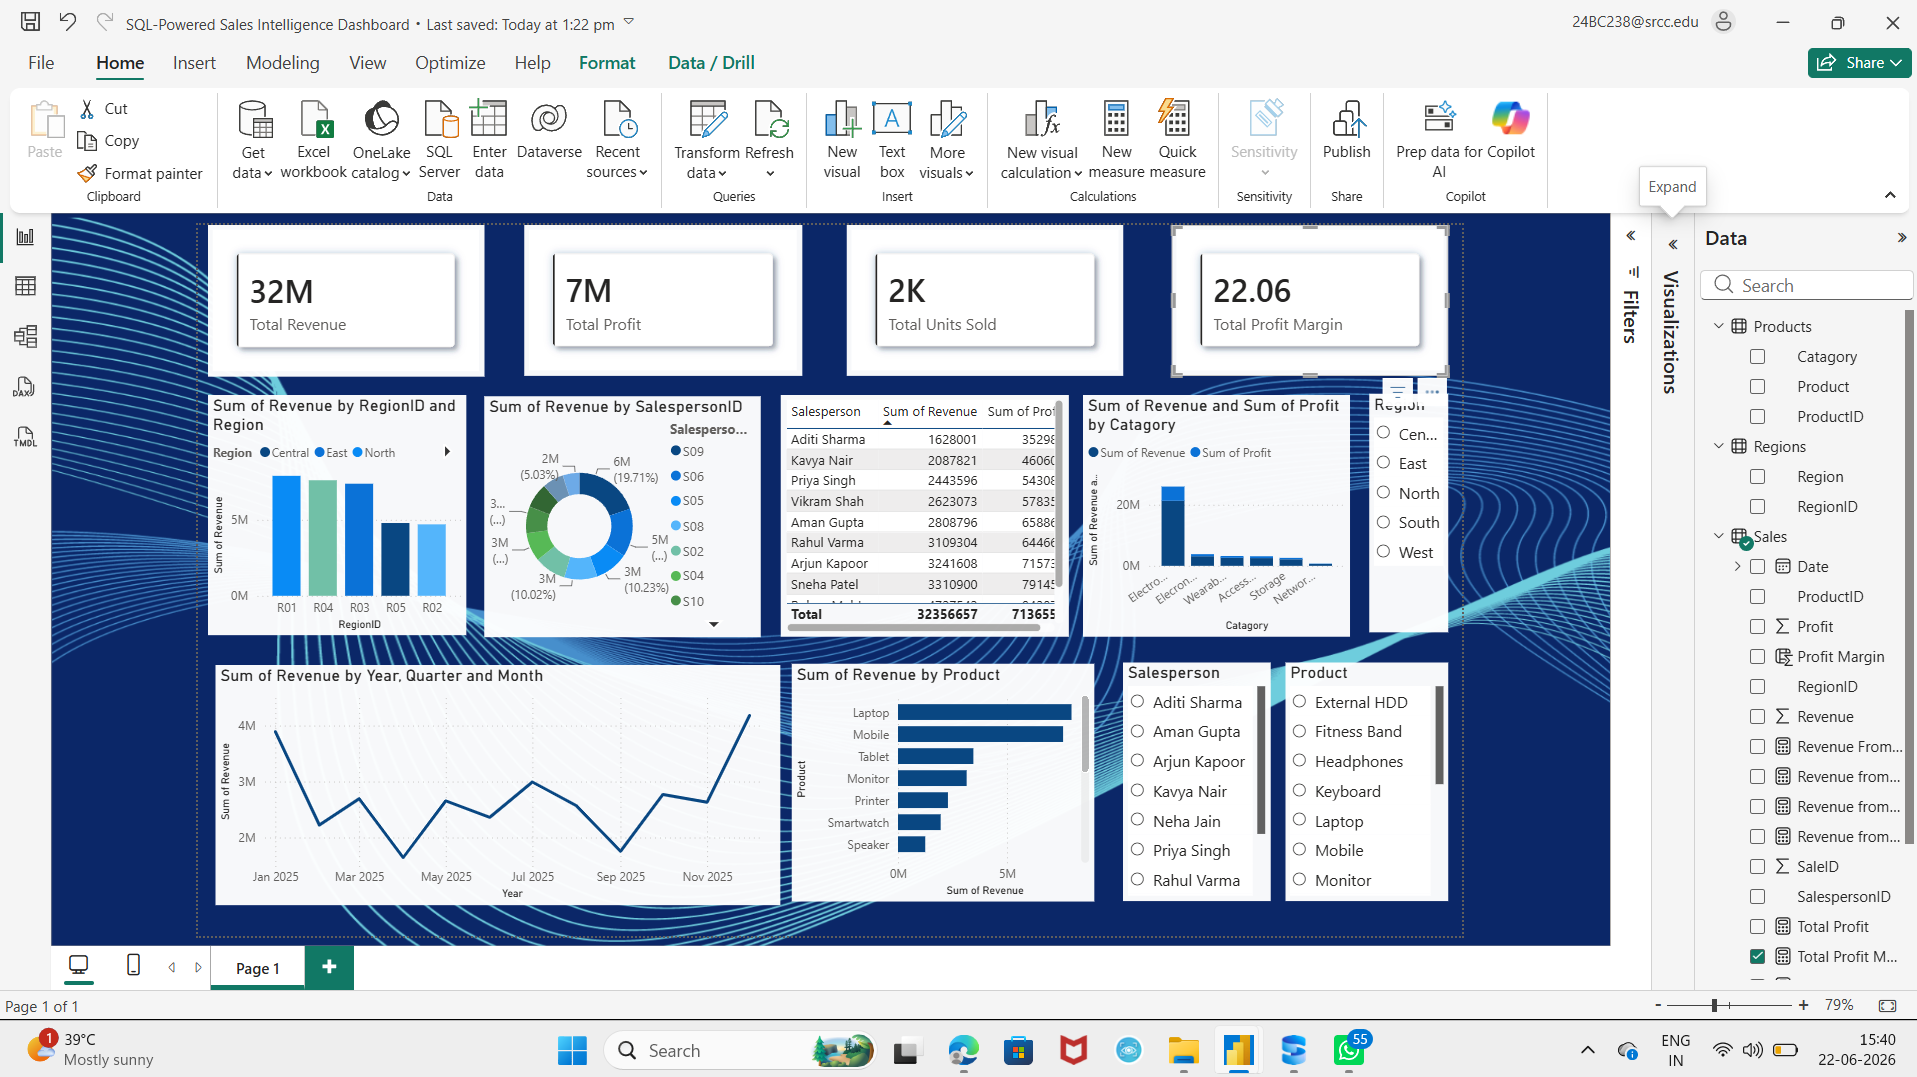

What the dashboard file says about the page in this screenshot:
{"tool":"powerbi","page":{"name":"Page 1","canvas":[1280,720],"ordinal":0},"visuals":[{"type":"cardVisual","fields":{"Data":["Sales.Total Revenue"]},"box":[9.6,0,279.9,153.7],"z":0},{"type":"cardVisual","fields":{"Data":["Sales.Total Profit"]},"box":[330,0,281.4,152.9],"z":1},{"type":"cardVisual","fields":{"Data":["Sales.Total Units Sold"]},"box":[657.1,0,280,152.9],"z":2},{"type":"cardVisual","fields":{"Data":["Sales.Total Profit Margin"]},"box":[985.7,0,280,152.9],"z":3},{"type":"columnChart","fields":{"Y":["Sum(Sales.Revenue)"],"Category":["Sales.RegionID"],"Series":["Regions.Region"]},"box":[10,171.7,261.7,243.3],"z":4},{"type":"donutChart","fields":{"Category":["Sales.SalespersonID"],"Y":["Sum(Sales.Revenue)"]},"box":[290,172.9,280,244.3],"z":5},{"type":"lineChart","fields":{"Y":["Sum(Sales.Revenue)"],"Category":["Sales.Date.Variation.Date Hierarchy.Year","Sales.Date.Variation.Date Hierarchy.Quarter","Sales.Date.Variation.Date Hierarchy.Month"]},"box":[17.7,445.6,572.2,243],"z":6},{"type":"tableEx","fields":{"Values":["Salespersons.Salesperson","Sum(Sales.Revenue)","Sum(Sales.Profit)"]},"box":[590,171.7,291.7,245],"z":7},{"type":"columnChart","fields":{"Category":["Products.Catagory"],"Y":["Sum(Sales.Revenue)","Sum(Sales.Profit)"]},"box":[896.7,171.7,270,245],"z":8},{"type":"clusteredBarChart","fields":{"Category":["Products.Product"],"Y":["Sum(Sales.Revenue)"]},"box":[601.3,444.3,306.3,240.5],"z":9},{"type":"listSlicer","fields":{"Values":["Regions.Region"]},"box":[1185.7,171.4,80,241.4],"z":10},{"type":"listSlicer","fields":{"Values":["Salespersons.Salesperson"]},"box":[936.7,443,149.4,241.8],"z":11},{"type":"listSlicer","fields":{"Values":["Products.Product"]},"box":[1101.7,443.3,165,241.7],"z":12}]}

Visuals, with their boxes on the page's 1280x720 design canvas (x1, y1, x2, y2). These are canvas units, not pixel positions in the 1917x1077 screenshot, which may show the page scaled, cropped or inside an application window:
cardVisual - Sales.Total Revenue: left=10, top=0, right=290, bottom=154
cardVisual - Sales.Total Profit: left=330, top=0, right=611, bottom=153
cardVisual - Sales.Total Units Sold: left=657, top=0, right=937, bottom=153
cardVisual - Sales.Total Profit Margin: left=986, top=0, right=1266, bottom=153
columnChart - Sum(Sales.Revenue) x Sales.RegionID: left=10, top=172, right=272, bottom=415
donutChart - Sales.SalespersonID x Sum(Sales.Revenue): left=290, top=173, right=570, bottom=417
lineChart - Sum(Sales.Revenue) x Sales.Date.Variation.Date Hierarchy.Year: left=18, top=446, right=590, bottom=689
tableEx - Salespersons.Salesperson x Sum(Sales.Revenue): left=590, top=172, right=882, bottom=417
columnChart - Products.Catagory x Sum(Sales.Revenue): left=897, top=172, right=1167, bottom=417
clusteredBarChart - Products.Product x Sum(Sales.Revenue): left=601, top=444, right=908, bottom=685
listSlicer - Regions.Region: left=1186, top=171, right=1266, bottom=413
listSlicer - Salespersons.Salesperson: left=937, top=443, right=1086, bottom=685
listSlicer - Products.Product: left=1102, top=443, right=1267, bottom=685
